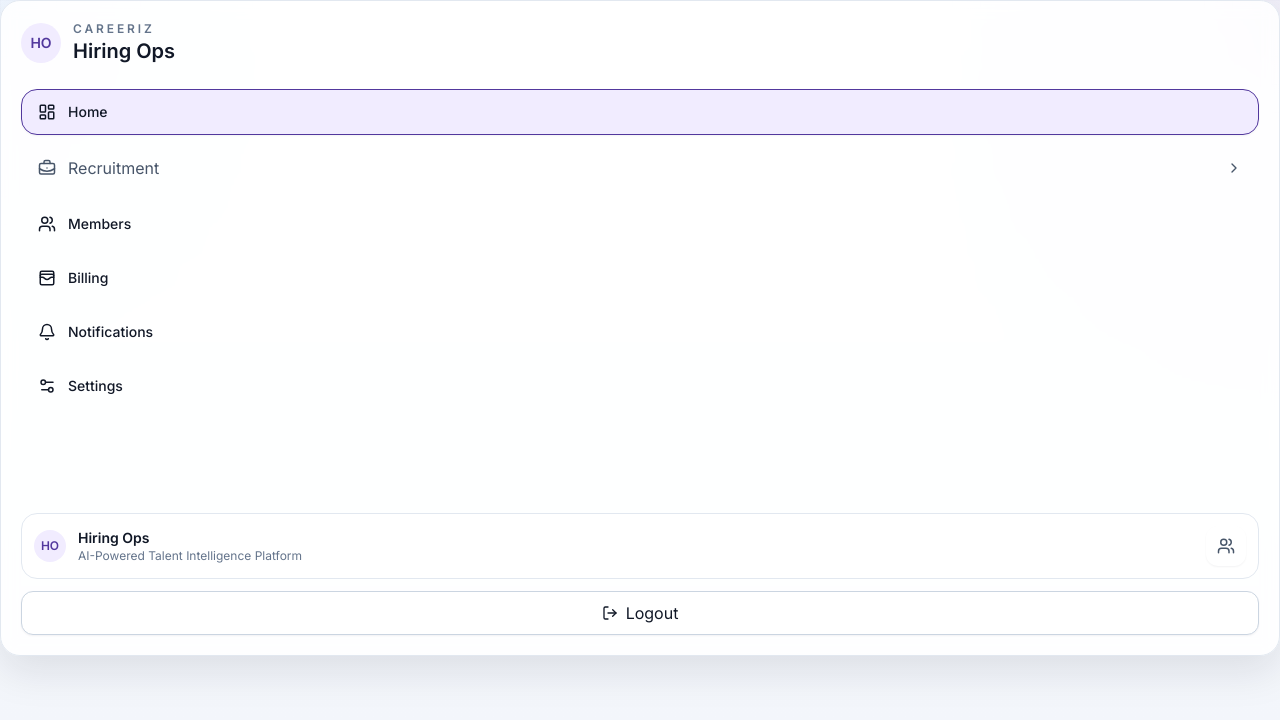
Test case: workspace shell and navigation › recruitment menu can be toggled from the recruiter sidebar
Click the button "Recruitment".
click(114, 168)  # box [21,143,1259,193]
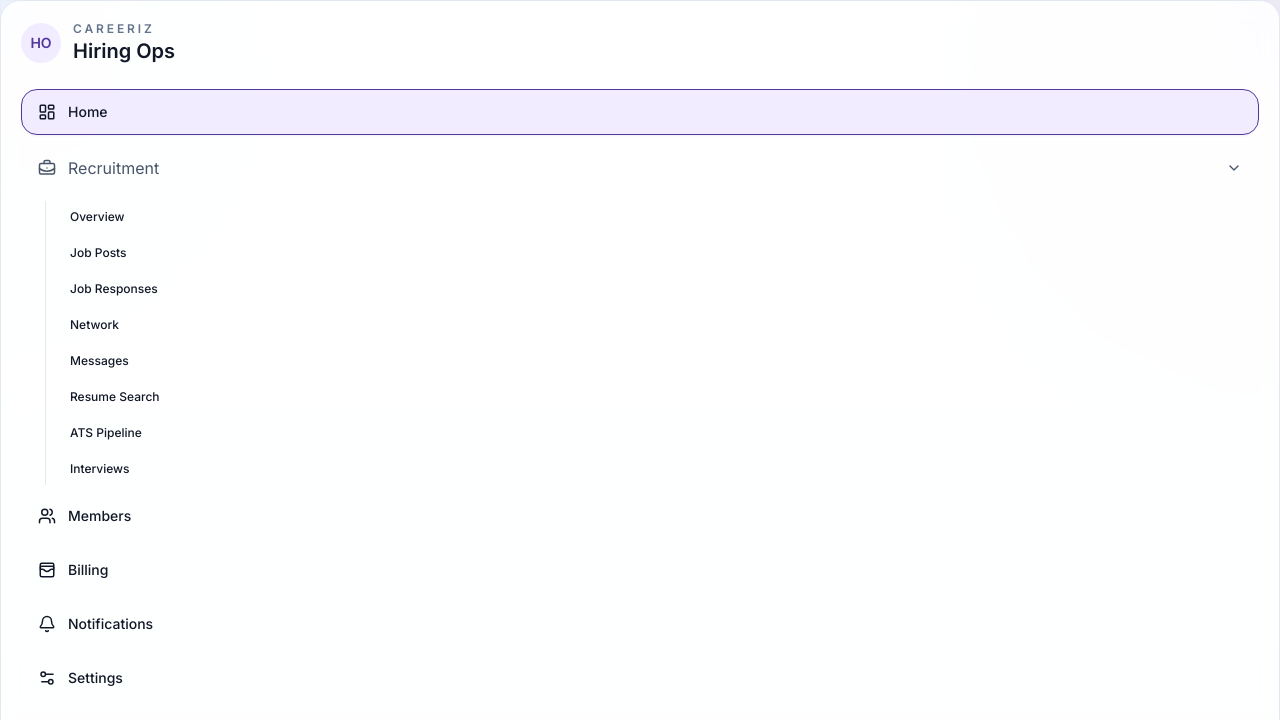
Expected: the button "Recruitment" is expanded, [21,143,1259,193]
Expected: the link "Interviews" is shown, [70,461,130,476]
Expected: the link "Job Responses" is shown, [70,281,158,296]
